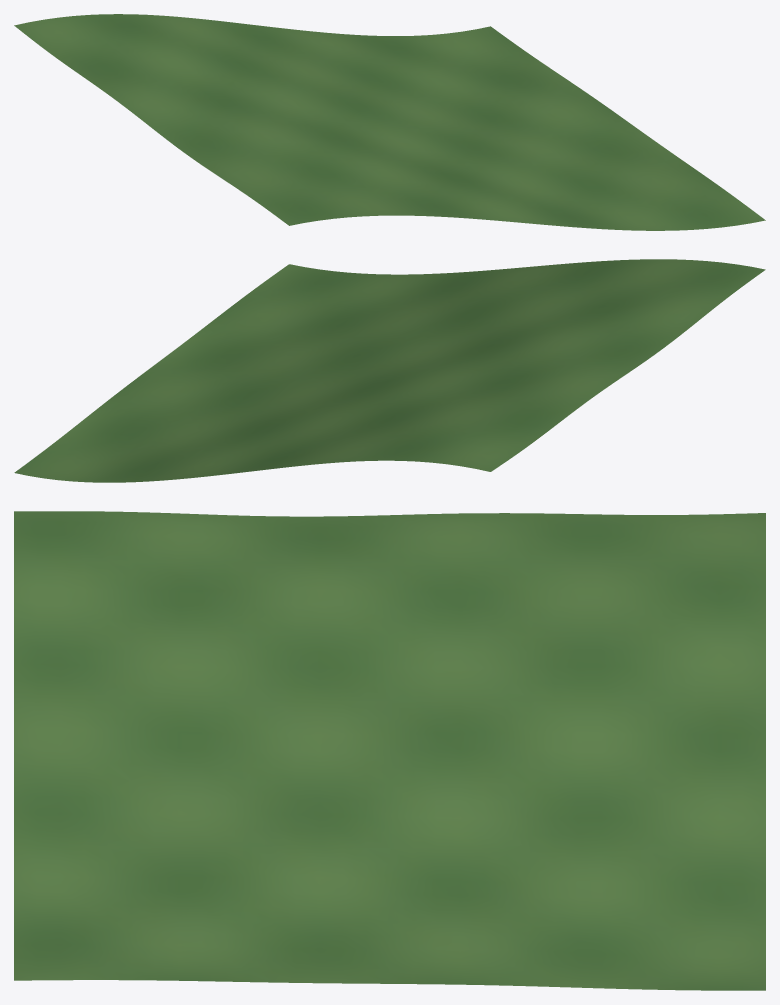
Rendered from chunk_0_9.glb.
The picture shows the model from 3 angles, top to bottom: view 1: azimuth 30°, elevation 25°; view 2: azimuth 150°, elevation 25°; view 3: azimuth 270°, elevation 25°; orthographic projection. The views are drawn at different scales.
Bounding box in the file's own units: 512 × 121 × 512.
